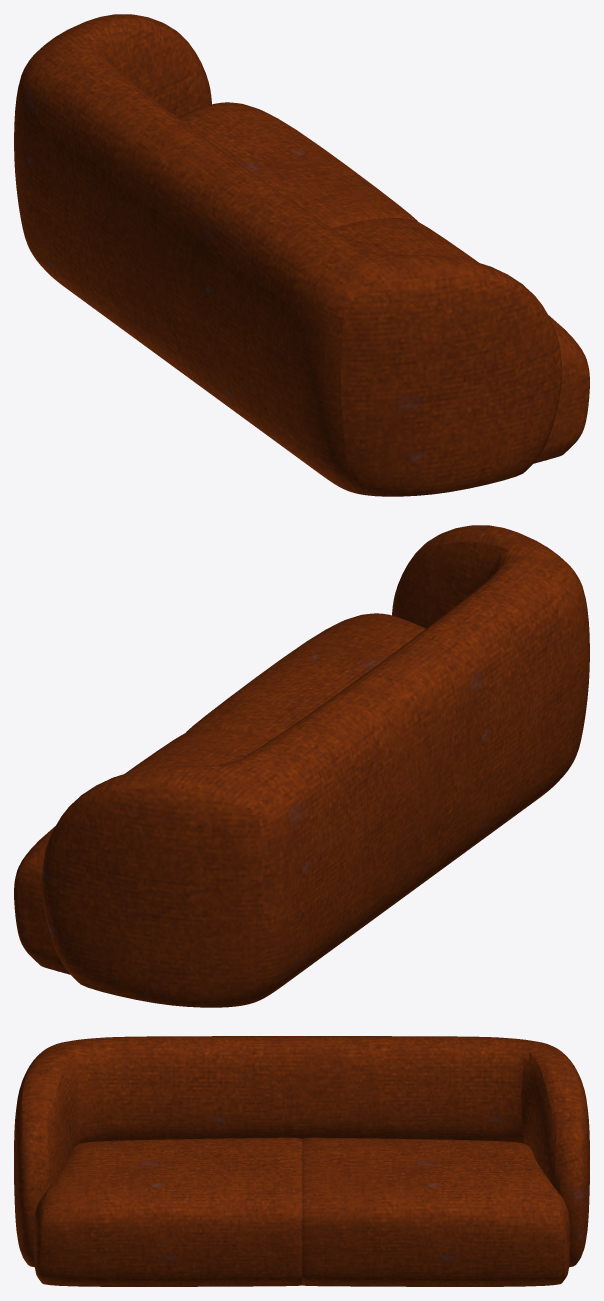
File: sofa.fbx
3 renders of one model, top to bottom at view 1: azimuth 30°, elevation 25°; view 2: azimuth 150°, elevation 25°; view 3: azimuth 270°, elevation 25°, orthographic. The views are drawn at different scales.
Parts seen in each view (by area): view 1: Sofa; view 2: Sofa; view 3: Sofa.
Boxes of the visible parts, left/top/right/bottom form: Sofa: left=14, top=14, right=589, bottom=496; Sofa: left=14, top=525, right=589, bottom=1007; Sofa: left=14, top=1036, right=589, bottom=1286.
Size of what is drawn, in the model's own units: 86.69 by 210 by 70.94.
Materials: 2 (1 with a texture image).
